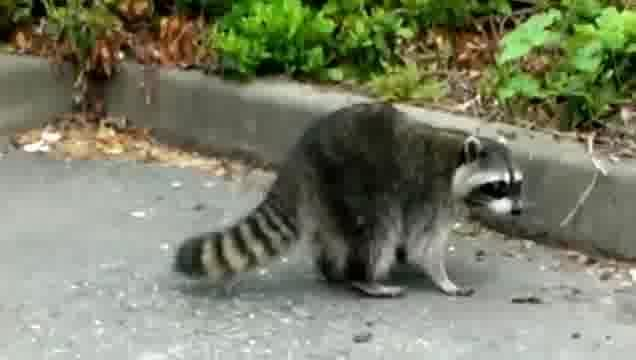raccoon: (173, 97, 528, 304)
